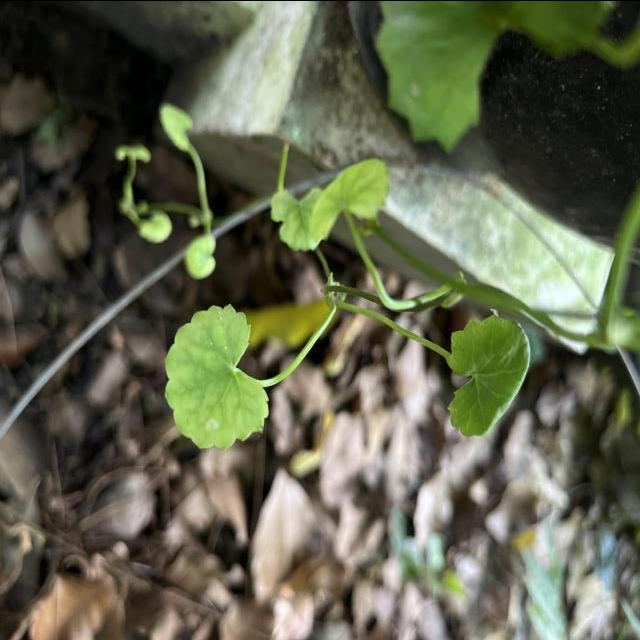Centella asiatica: (162, 300, 270, 452), (446, 312, 534, 438)
